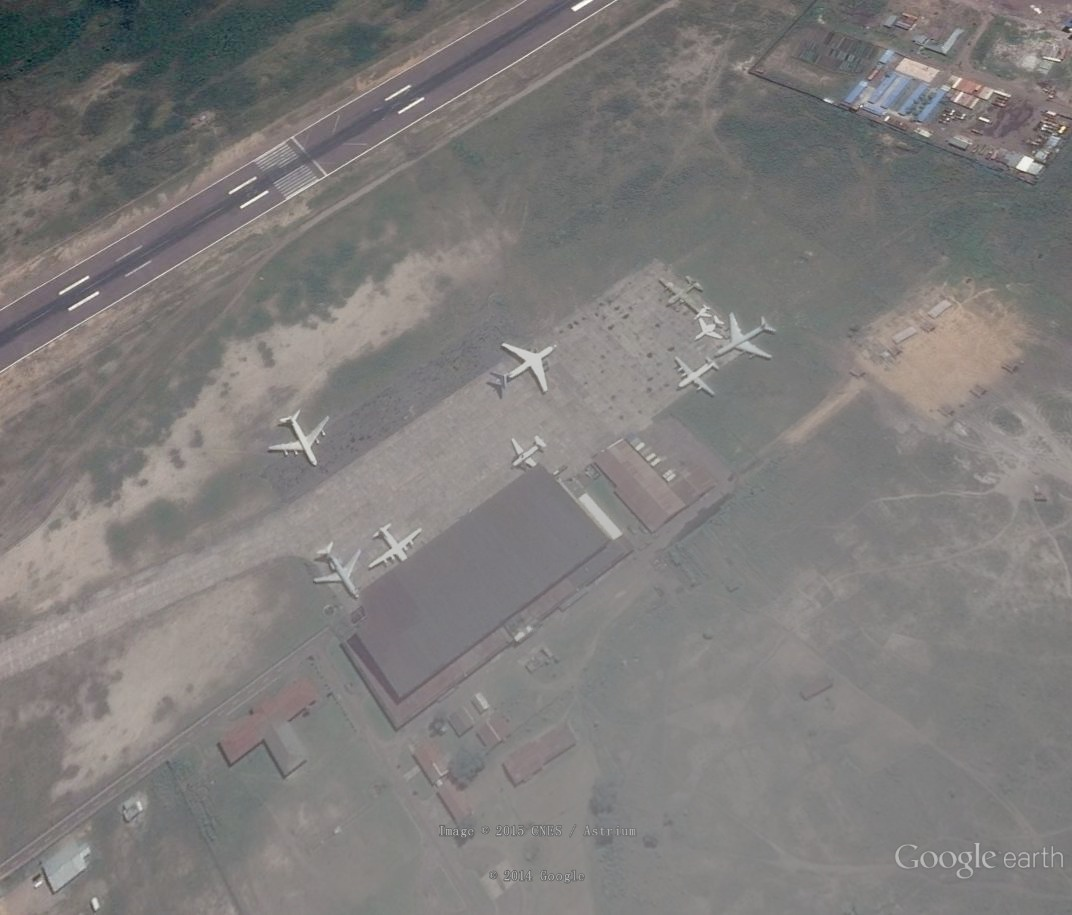aircraft: (265, 408, 332, 472), (491, 339, 561, 400), (709, 310, 780, 364), (308, 541, 362, 603), (364, 522, 425, 573), (672, 354, 723, 403), (657, 273, 709, 316), (509, 433, 549, 474), (694, 318, 730, 346)
